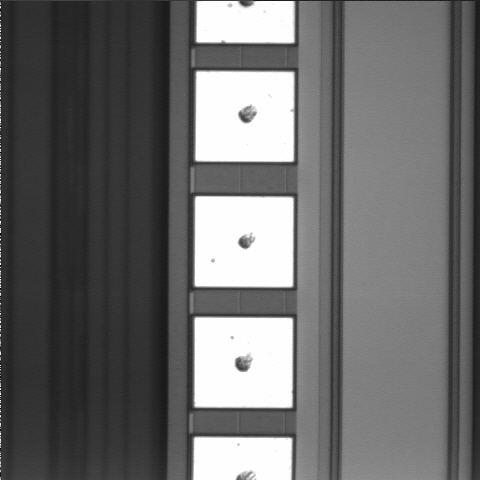pad: (195, 71, 294, 162), (195, 196, 293, 287), (194, 318, 293, 408)
